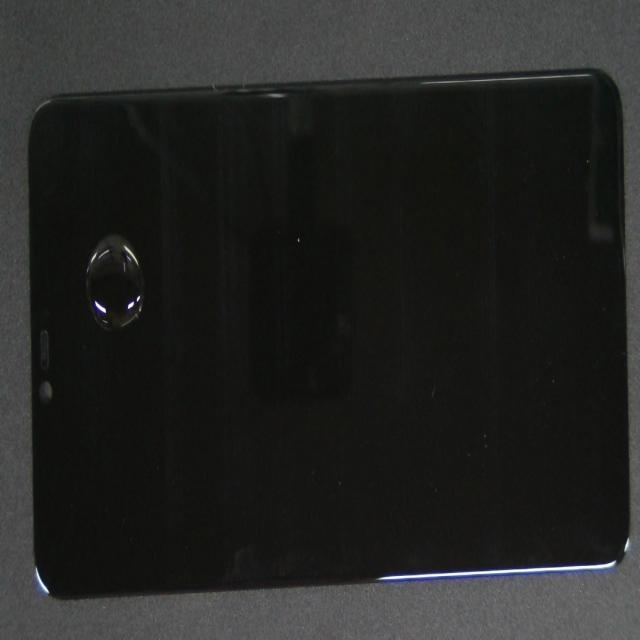oil: (93, 167, 205, 390)
